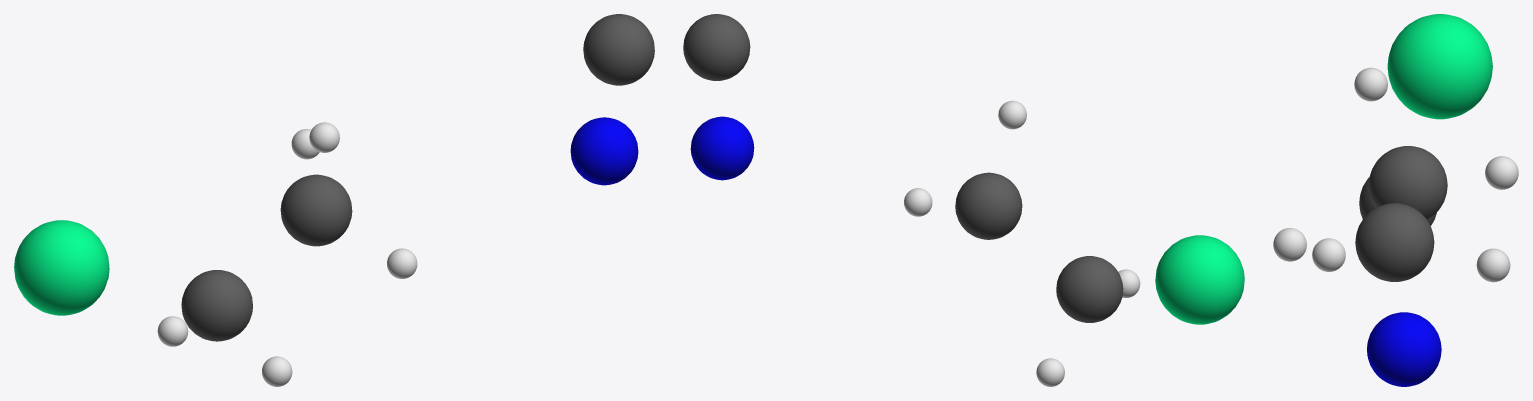
The model's file is SN2_Chloroethane.fbx.
3 renders of one model, left to right at view 1: azimuth 30°, elevation 25°; view 2: azimuth 150°, elevation 25°; view 3: azimuth 270°, elevation 25°, orthographic. The views are drawn at different scales.
Visible parts, largest first — view 1: Cl08, C05, C09, C01, N10, H07, H06, H02, H04, H03; view 2: Cl08, C01, C09, C05, N10, H02, H03, H07; view 3: Cl08, C09, N10, C01, H02, H04, H06, H07, H03, C05.
Boxes of the visible parts, x1,y1,x2,y2 form: Cl08: [14, 220, 109, 315]; C05: [181, 270, 252, 341]; C09: [583, 14, 654, 85]; C01: [280, 174, 352, 246]; N10: [570, 117, 638, 185]; H07: [157, 316, 188, 346]; H06: [262, 356, 292, 386]; H02: [309, 122, 339, 152]; H04: [387, 248, 417, 278]; H03: [291, 129, 319, 159]; Cl08: [1155, 235, 1244, 324]; C01: [955, 172, 1022, 239]; C09: [683, 14, 750, 80]; C05: [1056, 256, 1123, 322]; N10: [690, 116, 754, 180]; H02: [998, 100, 1026, 129]; H03: [904, 188, 932, 216]; H07: [1036, 358, 1064, 386]; Cl08: [1387, 14, 1492, 119]; C09: [1355, 203, 1434, 281]; N10: [1367, 312, 1441, 386]; C01: [1368, 146, 1447, 219]; H02: [1354, 67, 1387, 101]; H04: [1312, 238, 1345, 271]; H06: [1273, 228, 1306, 261]; H07: [1476, 248, 1510, 282]; H03: [1485, 156, 1518, 189]; C05: [1359, 177, 1436, 225].
Bounding box in the file's own units: 735 × 303 × 233.
